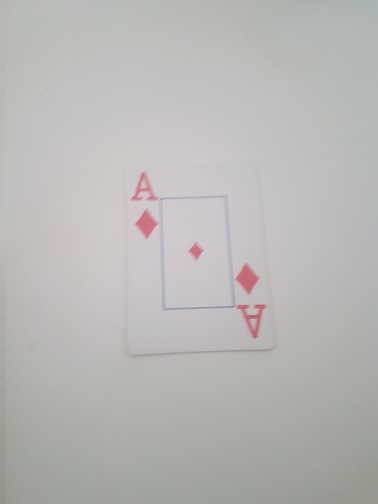ace: (121, 160, 281, 352)
